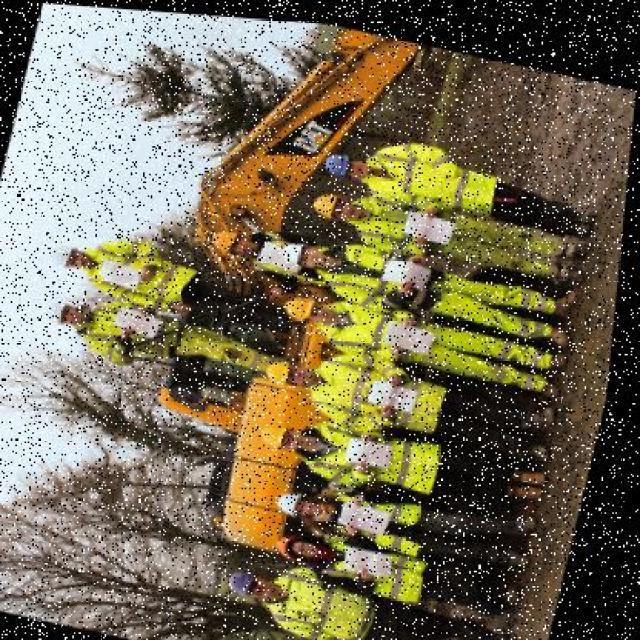helmet: (232, 557, 282, 597), (275, 520, 325, 560), (46, 236, 92, 274), (259, 409, 301, 447), (279, 228, 320, 266), (288, 282, 326, 320), (212, 218, 248, 252), (309, 181, 345, 215), (268, 346, 303, 380), (50, 294, 86, 325), (285, 478, 315, 510), (326, 143, 360, 171)
vest: (320, 228, 468, 313), (312, 406, 454, 490), (311, 283, 451, 367), (365, 131, 511, 210), (317, 350, 458, 430), (337, 179, 473, 259), (272, 559, 406, 639), (317, 525, 449, 600), (85, 285, 201, 369), (83, 233, 205, 312), (320, 476, 452, 548)
